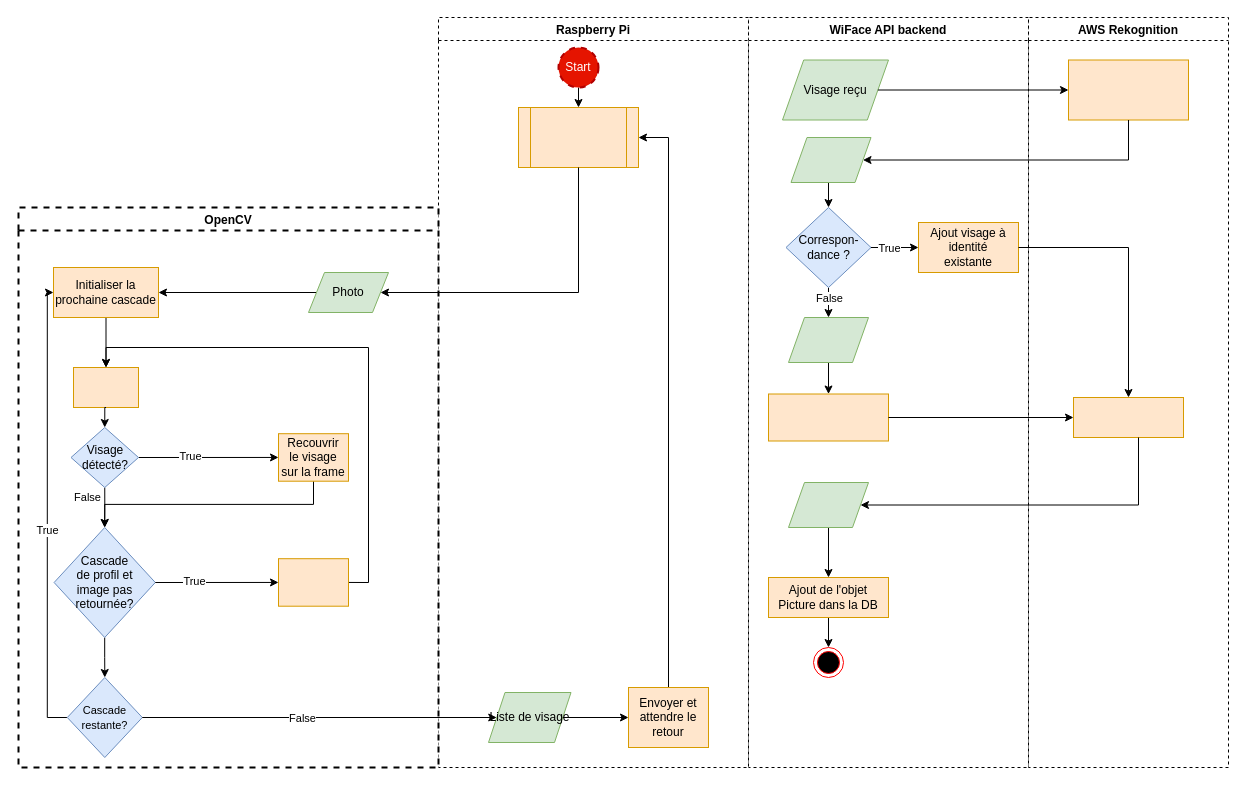
Image size: 1246x786. Some labels were removed from this diagram. Here are the shapes that lost their labels. From the top down, the centre of each, then its label:
point (1128, 89): Search face by image
point (578, 137): La PiCamera prend des photos
point (830, 159): Face match
point (828, 339): Visage Rogné
point (105, 387): Détecter les visages
point (828, 417): Création d'une nouvelle identité dans la DB
point (1128, 417): Add face to the collection
point (828, 505): Face details
point (313, 582): Retourner l'image
